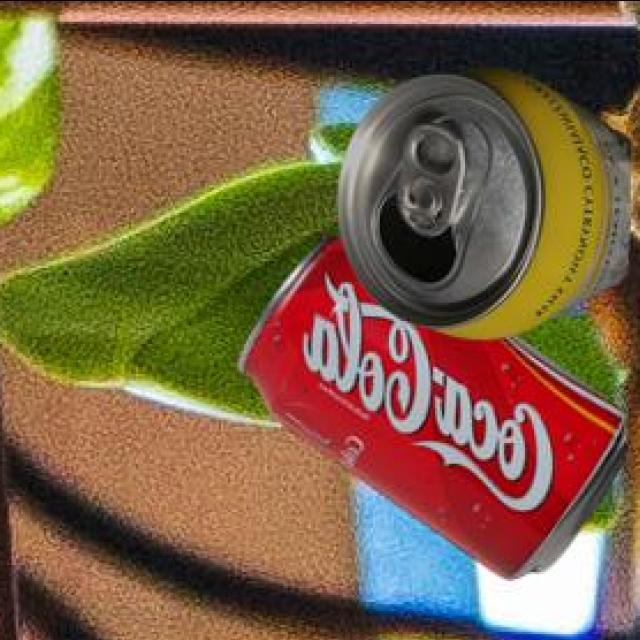logam: (236, 229, 625, 574), (335, 63, 627, 335)
